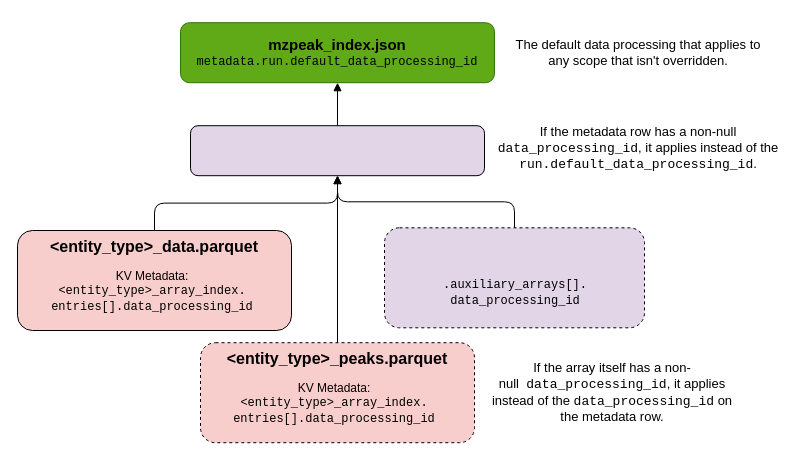
The diagram is 798 pixels wide and 460 high, and some of its shapes have lost their labels. The shapes that lost their labels are listed below. From the top down, each one's box as (x1, y1, x2, y2) in pixels, then its label:
(190, 125, 484, 176): <entity_type>_metadata.parquet .data_processing_id
(384, 227, 644, 328): <entity_type>_metadata.parquet
